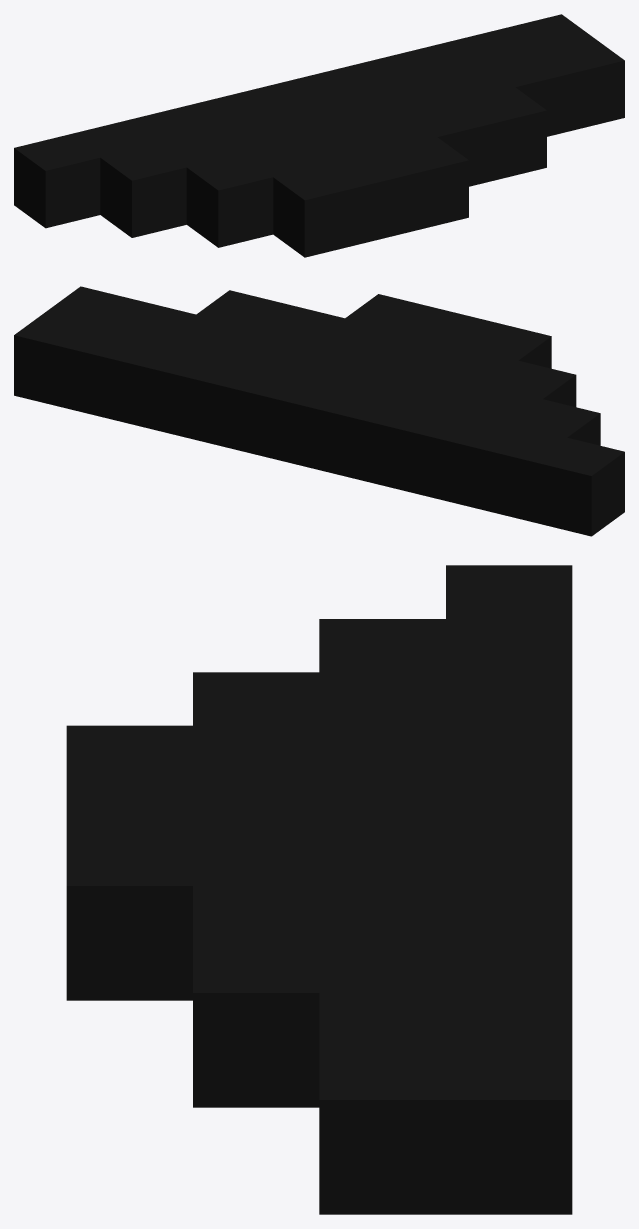
Rendered from bat_wing_left.dae.
3 renders of one model, top to bottom at view 1: azimuth 30°, elevation 25°; view 2: azimuth 150°, elevation 25°; view 3: azimuth 270°, elevation 25°, orthographic. The views are drawn at different scales.
Parts seen in each view (by area): view 1: bat_wing_left; view 2: bat_wing_left; view 3: bat_wing_left.
Boxes of the visible parts, box(x1,y1,x2,y2) form: bat_wing_left: box(14, 14, 624, 257); bat_wing_left: box(14, 286, 624, 536); bat_wing_left: box(66, 565, 572, 1214).
Bounding box in the file's own units: 1 × 0.4 × 0.1.
1 material, 1 textured.
